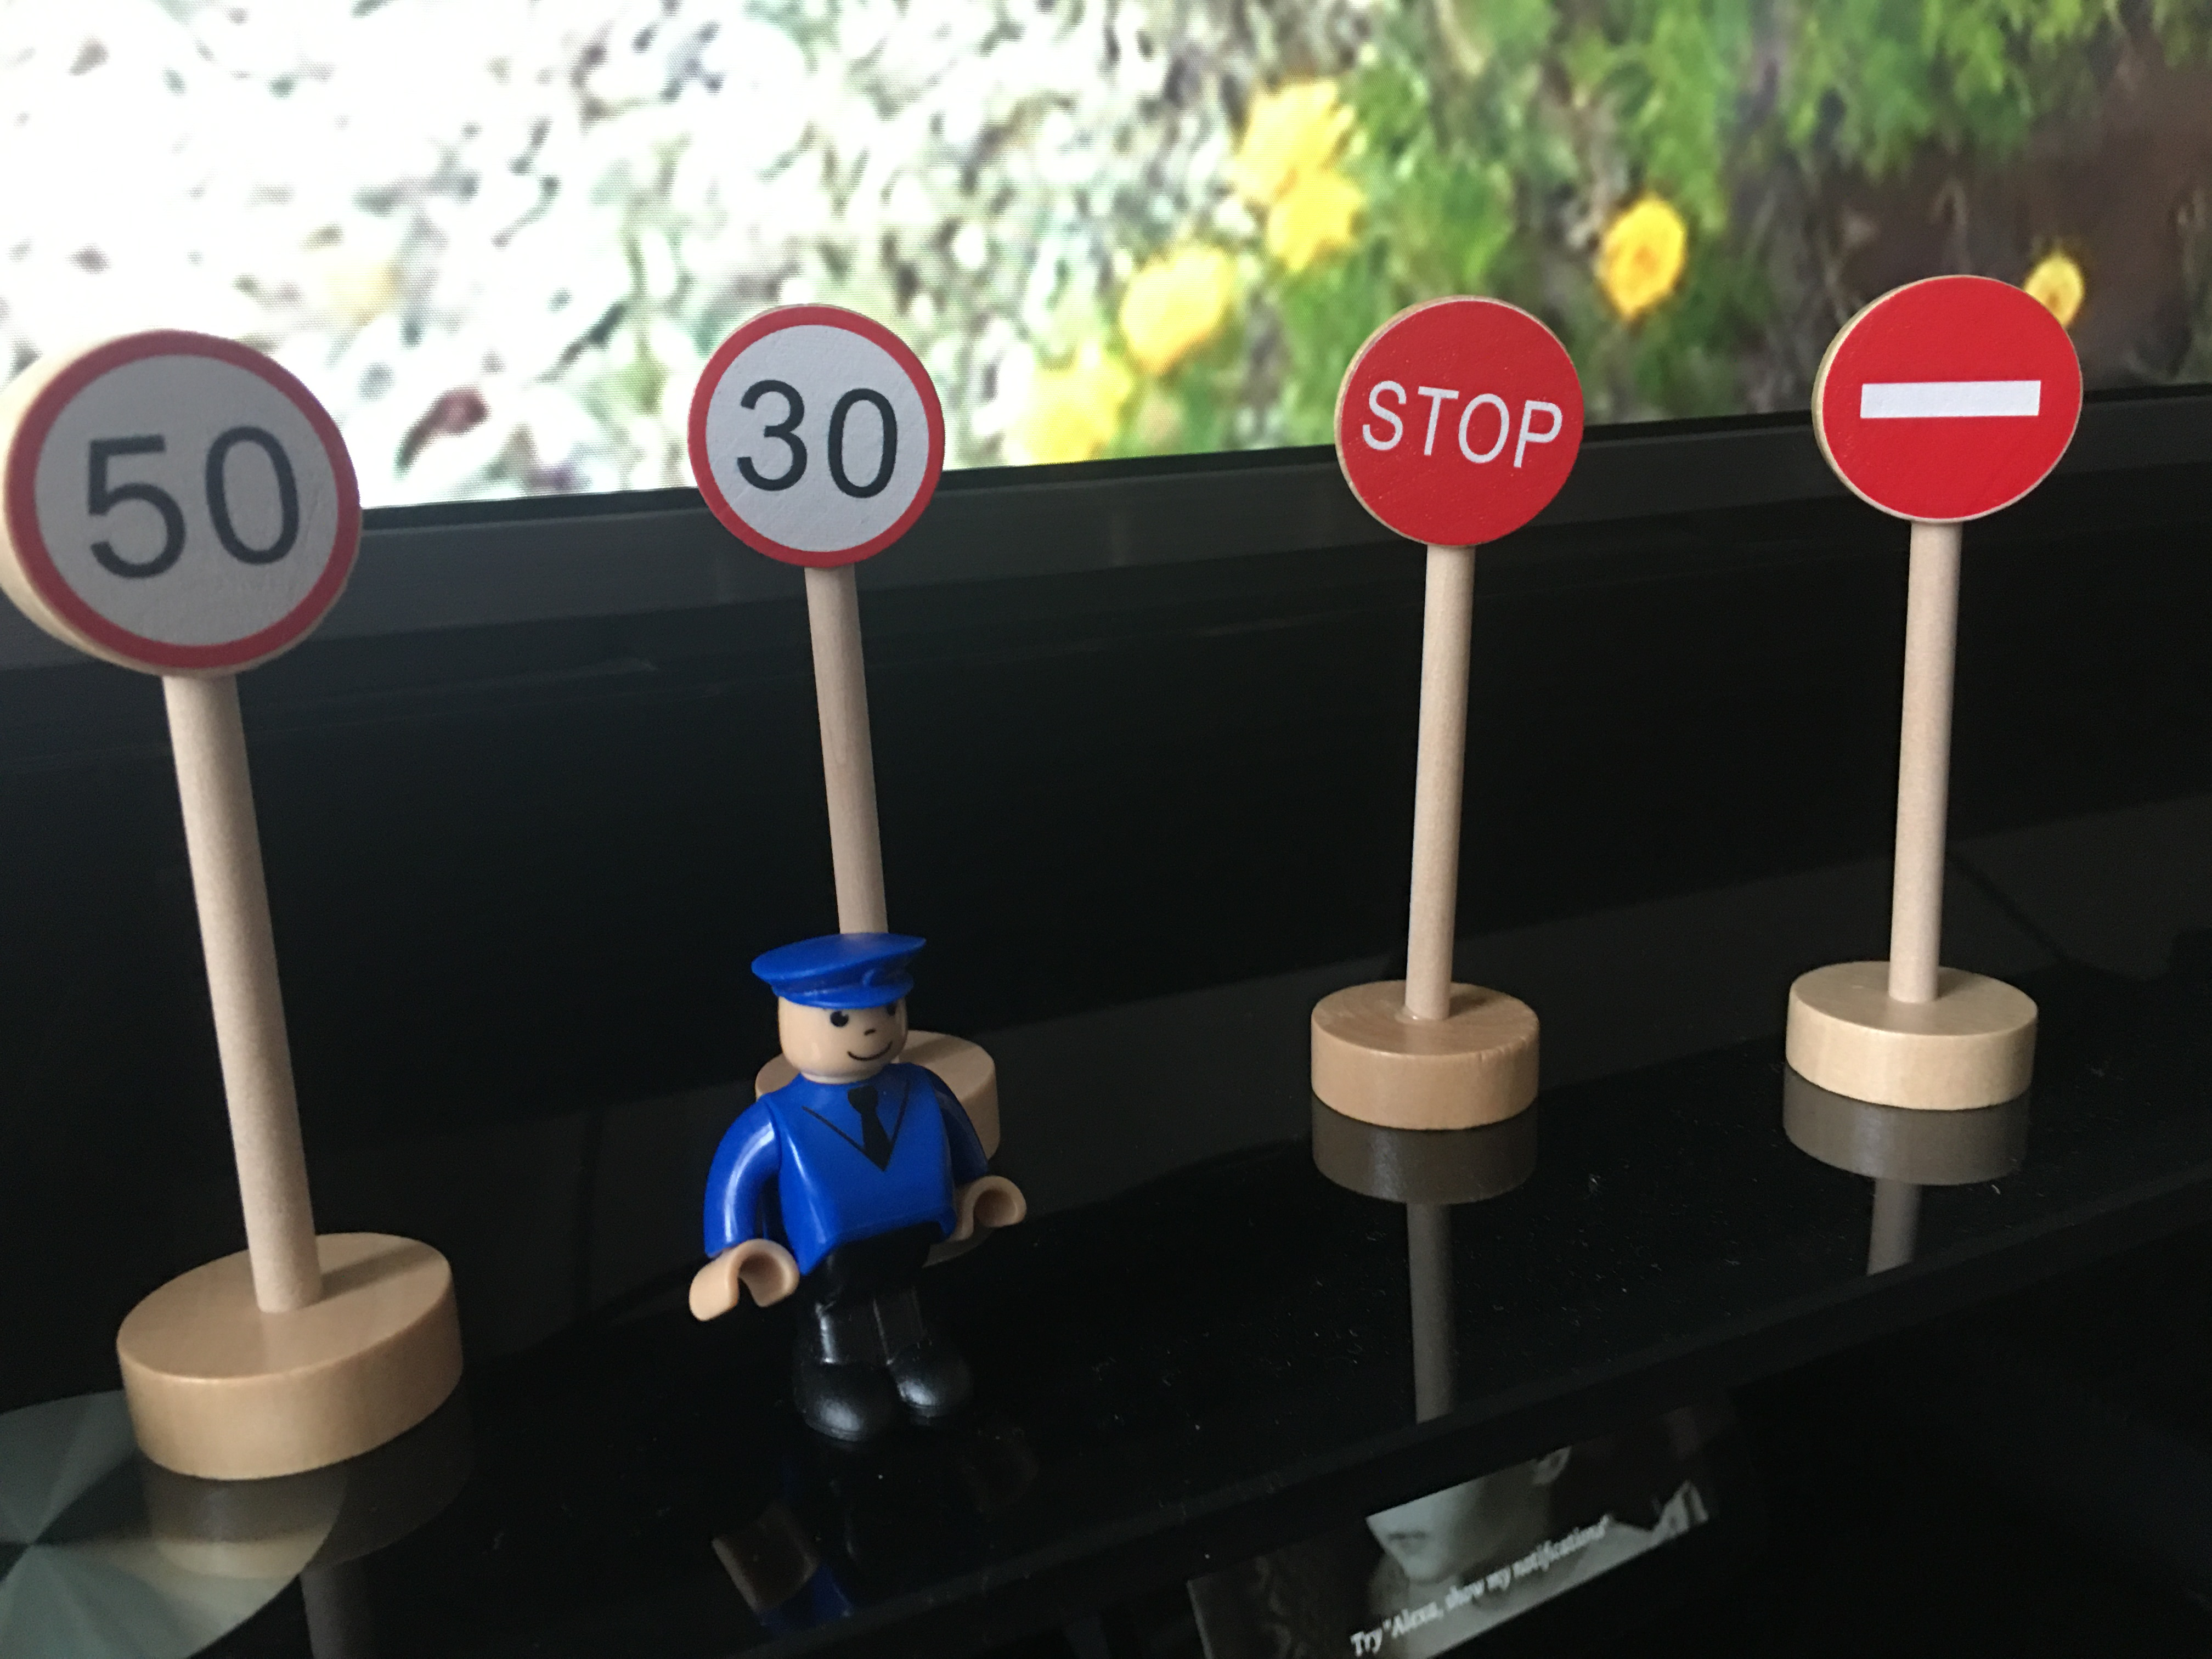Traffic_Sign_30: (688, 305, 945, 569)
Traffic_Sign_50: (1, 337, 364, 677)
Traffic_Sign_No_Entry: (1818, 272, 2084, 526)
Traffic_Sign_Stop: (1336, 301, 1585, 548)
person: (688, 918, 1017, 1457)
